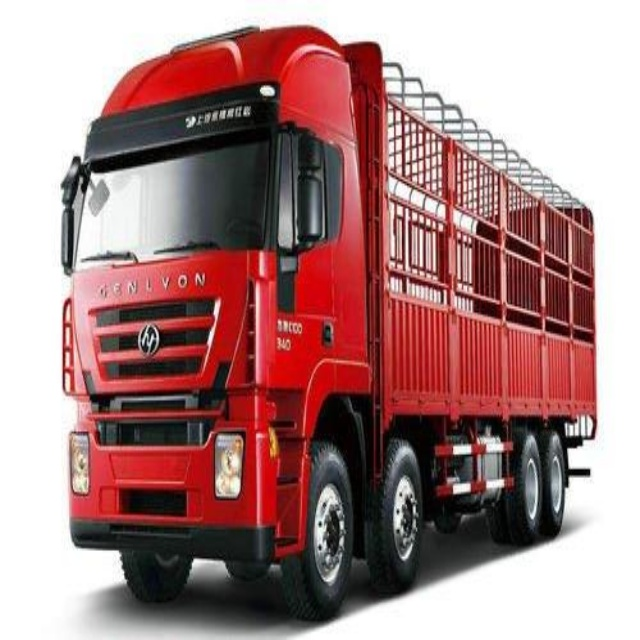Truck: (61, 25, 598, 621)
